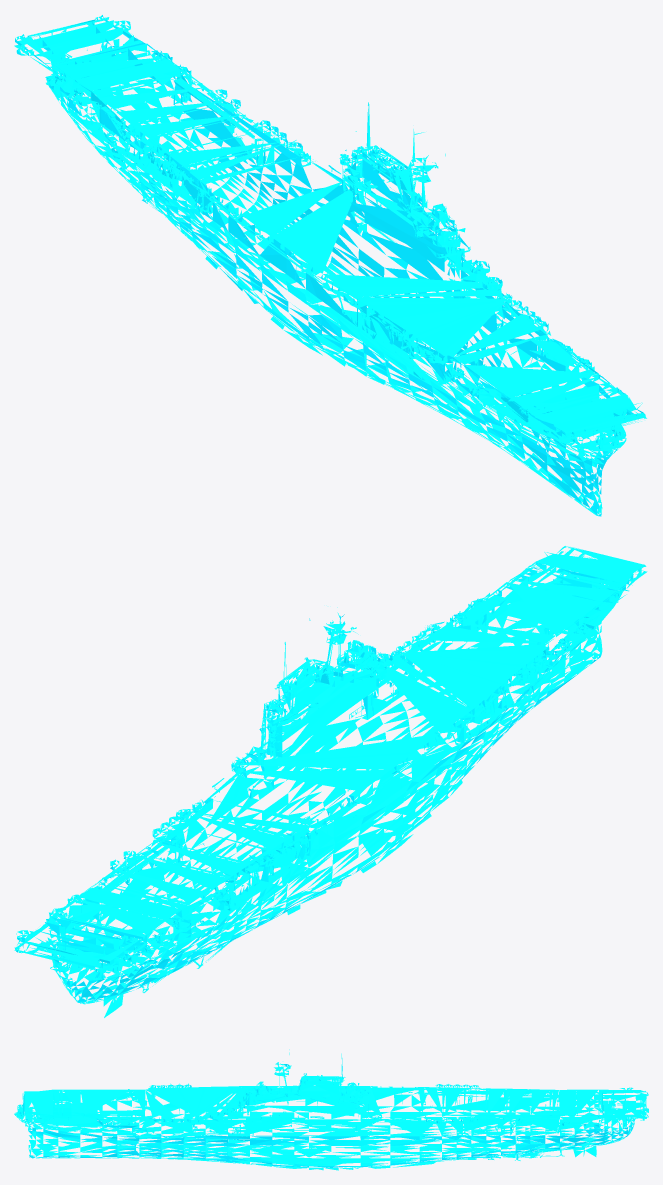
Rendered from AZUR_Hornet.glb.
3 renders of one model, top to bottom at view 1: azimuth 30°, elevation 25°; view 2: azimuth 150°, elevation 25°; view 3: azimuth 270°, elevation 25°, orthographic. The views are drawn at different scales.
Bounding box in the file's own units: 2.36 × 3.58 × 16.83.
